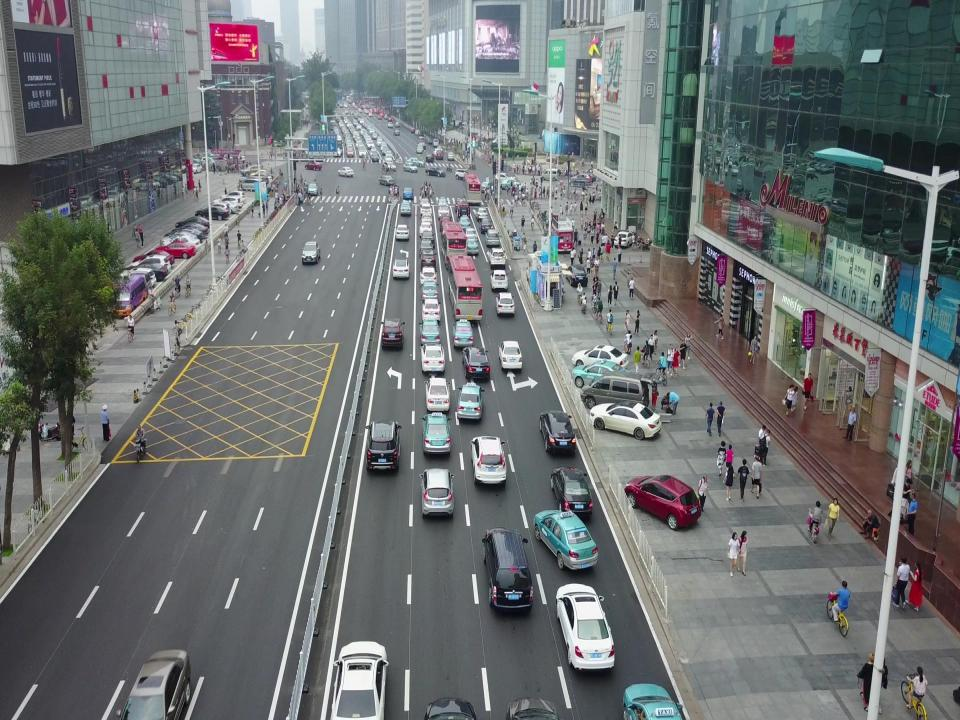bus: (446, 255, 482, 320), (440, 221, 467, 266), (462, 174, 480, 204)
car: (119, 648, 190, 720), (556, 583, 614, 671), (329, 640, 388, 720), (481, 527, 533, 611), (624, 475, 702, 531), (533, 510, 597, 569), (590, 400, 662, 441), (571, 358, 636, 393), (550, 467, 592, 518), (366, 420, 402, 471), (419, 467, 454, 518), (470, 436, 506, 485), (539, 410, 576, 453), (572, 345, 628, 371), (420, 413, 452, 453), (456, 382, 484, 420), (423, 377, 451, 411), (462, 347, 491, 377), (126, 255, 170, 274), (124, 263, 168, 281), (419, 343, 445, 373), (120, 268, 156, 289), (153, 241, 195, 259), (380, 318, 405, 348), (498, 341, 522, 371), (132, 251, 174, 268), (451, 318, 474, 348), (162, 236, 200, 254), (159, 232, 197, 250), (418, 317, 440, 346), (162, 229, 204, 243), (172, 223, 208, 239), (301, 241, 321, 265), (421, 298, 441, 322), (175, 217, 211, 230), (496, 292, 514, 316), (490, 269, 508, 291), (488, 248, 506, 270), (391, 259, 410, 279), (421, 280, 439, 300), (419, 267, 437, 287), (418, 240, 434, 258), (484, 229, 500, 247), (419, 230, 435, 247), (419, 221, 433, 239), (395, 224, 409, 241), (425, 166, 446, 177), (466, 236, 478, 255), (479, 218, 493, 233), (464, 228, 478, 243), (405, 158, 425, 168), (455, 169, 473, 180), (437, 206, 451, 220), (458, 215, 470, 231), (439, 214, 453, 227), (304, 161, 322, 171), (338, 166, 354, 177), (475, 208, 488, 221), (400, 202, 412, 216), (436, 196, 448, 210), (420, 213, 432, 226), (454, 199, 466, 212), (403, 162, 418, 172), (379, 176, 395, 185), (420, 203, 432, 214), (403, 187, 413, 200), (418, 198, 430, 208)
van: (581, 371, 663, 412), (114, 275, 146, 317), (111, 271, 151, 296), (420, 250, 436, 270), (456, 202, 470, 221)
